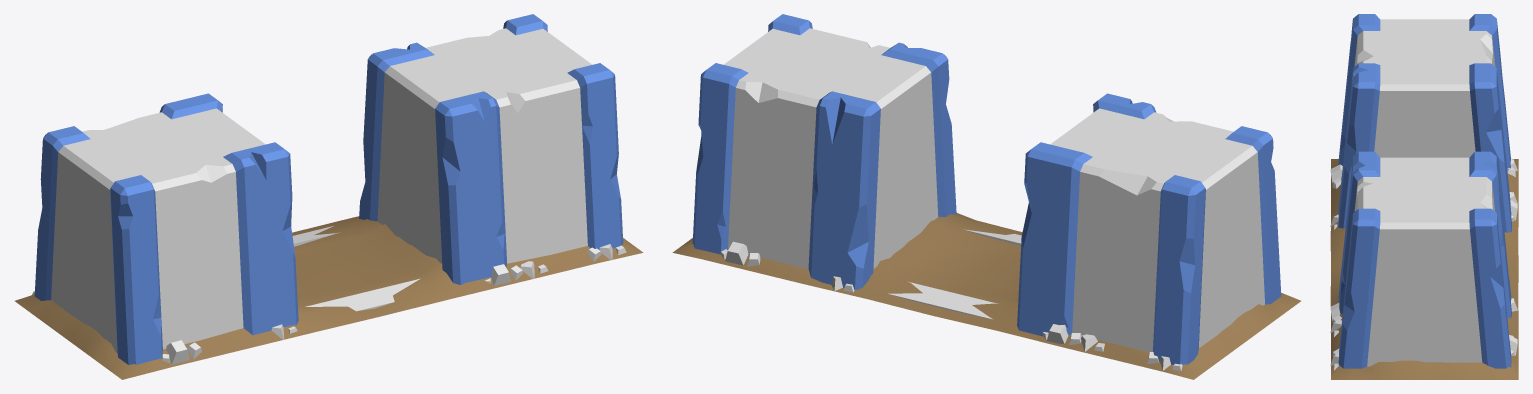
Rendered from DoorFrame.fbx.
3 views of the same model, side by side, from view 1: azimuth 30°, elevation 25°; view 2: azimuth 150°, elevation 25°; view 3: azimuth 270°, elevation 25° (orthographic). The views are drawn at different scales.
Visible parts, largest first — view 1: GATE.001; view 2: GATE.001; view 3: GATE.001.
Part boxes in pixels (x1,y1,x2,y2): GATE.001: (15,14,643,379); GATE.001: (672,14,1300,379); GATE.001: (1330,14,1518,379).
Bounding box in the file's own units: 1278 × 412 × 460.
